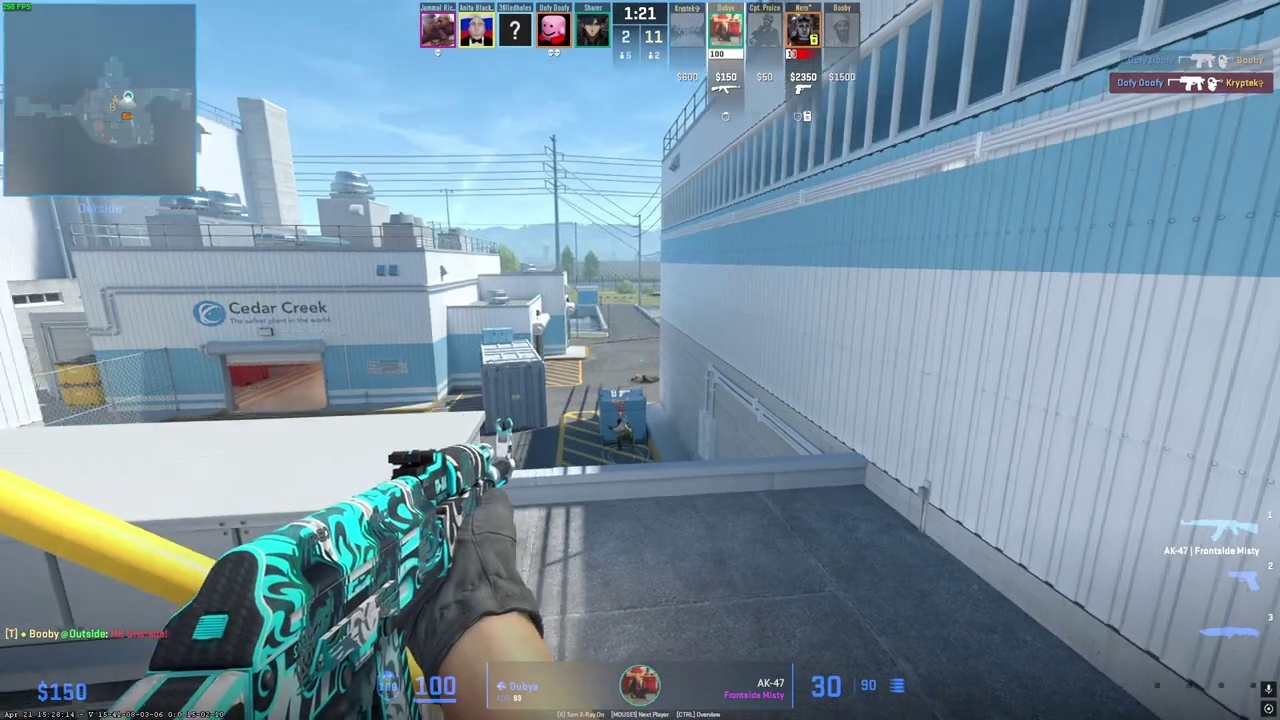Terrorist: (613, 418, 634, 451)
